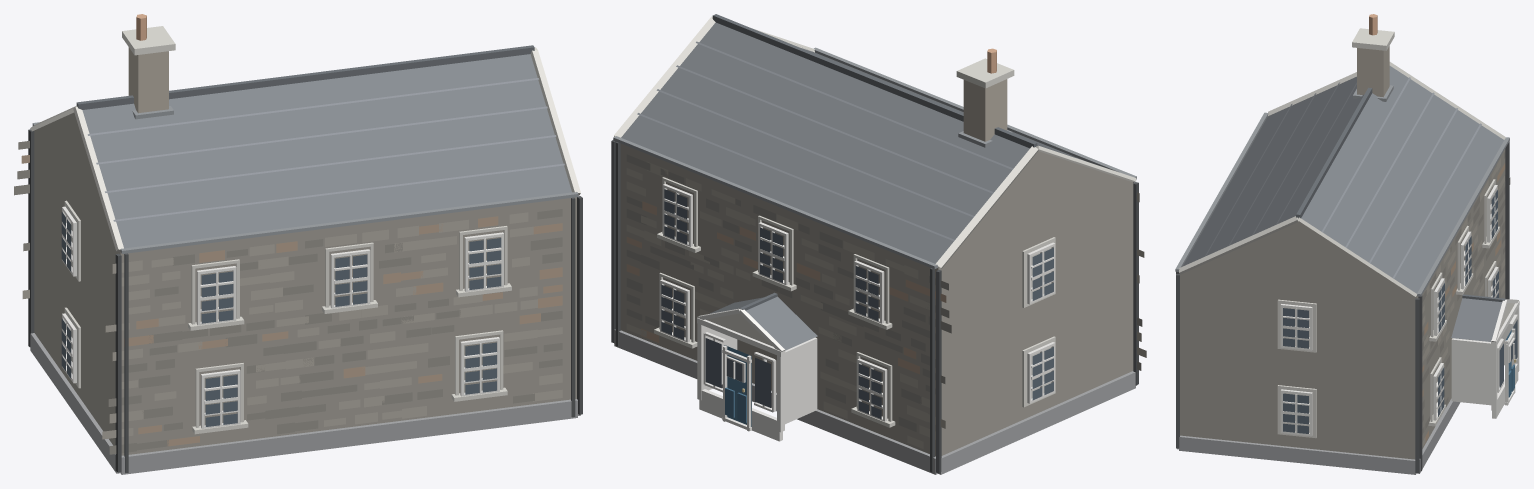
3 renders of one model, left to right at view 1: azimuth 30°, elevation 25°; view 2: azimuth 150°, elevation 25°; view 3: azimuth 270°, elevation 25°, orthographic. The views are drawn at different scales.
Parts seen in each view (by area): view 1: rubble, slate, rubble_lt, rubble_dk, plinth, dress_cream, frame, pipe, rubble_rust, slate_lt, slate_dk, lead (+1 smaller); view 2: rubble, slate, frame, dress_cream, plinth, rubble_dk, rubble_lt, pipe, lead, slate_lt, slate_dk, chim_stone (+6 smaller); view 3: rubble, slate, frame, dress_cream, plinth, pipe, slate_lt, lead, rubble_dk, chim_stone, rubble_lt, slate_dk (+1 smaller).
Boxes of the visible parts, x1=… form: rubble: x1=34, y1=112, x2=576, y2=455; slate: x1=82, y1=54, x2=571, y2=248; rubble_lt: x1=22, y1=212, x2=562, y2=439; rubble_dk: x1=14, y1=141, x2=562, y2=454; plinth: x1=30, y1=333, x2=580, y2=474; dress_cream: x1=30, y1=26, x2=580, y2=434; frame: x1=62, y1=206, x2=503, y2=428; pipe: x1=28, y1=129, x2=582, y2=473; rubble_rust: x1=21, y1=155, x2=562, y2=446; slate_lt: x1=87, y1=78, x2=564, y2=221; slate_dk: x1=76, y1=45, x2=534, y2=109; lead: x1=32, y1=106, x2=578, y2=253; rubble: x1=620, y1=143, x2=1133, y2=456; slate: x1=621, y1=22, x2=1081, y2=350; frame: x1=660, y1=183, x2=1055, y2=441; dress_cream: x1=614, y1=16, x2=1136, y2=427; plinth: x1=614, y1=329, x2=1135, y2=474; rubble_dk: x1=626, y1=154, x2=1142, y2=431; rubble_lt: x1=626, y1=161, x2=1146, y2=448; pipe: x1=611, y1=140, x2=1138, y2=473; lead: x1=613, y1=47, x2=1136, y2=269; slate_lt: x1=637, y1=41, x2=1042, y2=241; slate_dk: x1=712, y1=14, x2=1037, y2=310; chim_stone: x1=963, y1=79, x2=1007, y2=141; rubble: x1=1180, y1=149, x2=1505, y2=459; slate: x1=1182, y1=66, x2=1503, y2=341; frame: x1=1280, y1=185, x2=1519, y2=436; dress_cream: x1=1179, y1=28, x2=1505, y2=438; plinth: x1=1176, y1=398, x2=1460, y2=474; pipe: x1=1176, y1=141, x2=1509, y2=472; slate_lt: x1=1205, y1=77, x2=1481, y2=278; lead: x1=1175, y1=85, x2=1509, y2=296; rubble_dk: x1=1422, y1=151, x2=1510, y2=434; chim_stone: x1=1357, y1=46, x2=1389, y2=97; rubble_lt: x1=1422, y1=158, x2=1505, y2=446; slate_dk: x1=1296, y1=87, x2=1505, y2=301.
Bounding box in the file's own units: 12.79 × 9.81 × 9.85.
